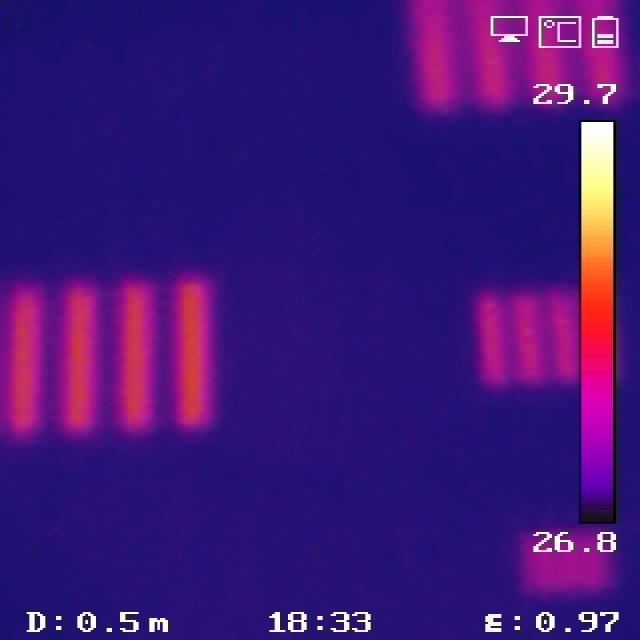Distinguishable 4-bar target: (8, 279, 223, 440), (408, 6, 613, 108)
Indistinguishable 4-bar target: (526, 531, 610, 590)
threshold 4-bar target: (455, 285, 604, 385)
